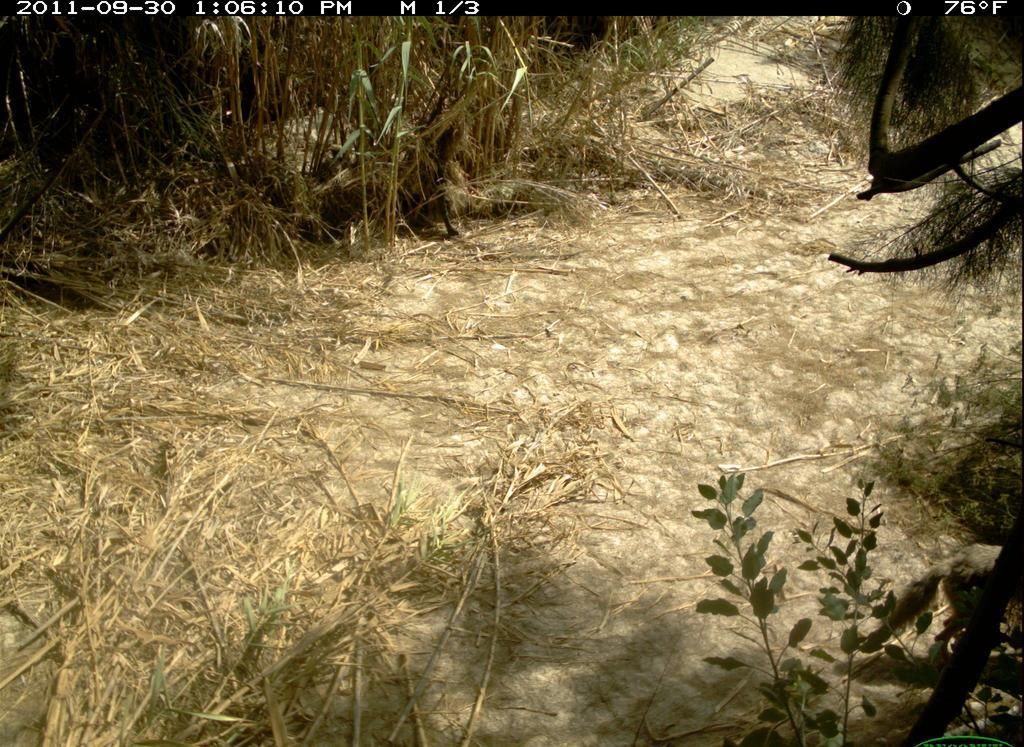coyote: (859, 510, 1018, 681)
